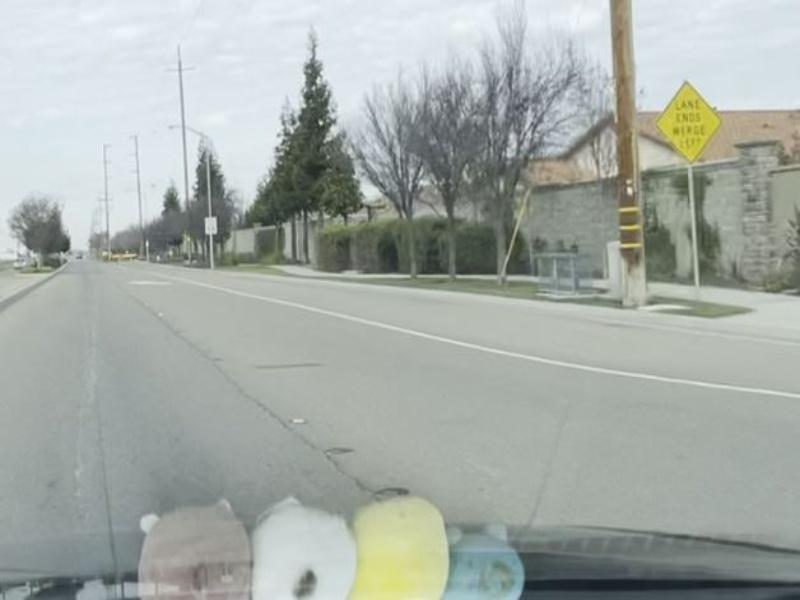merge sign: (652, 78, 723, 167)
